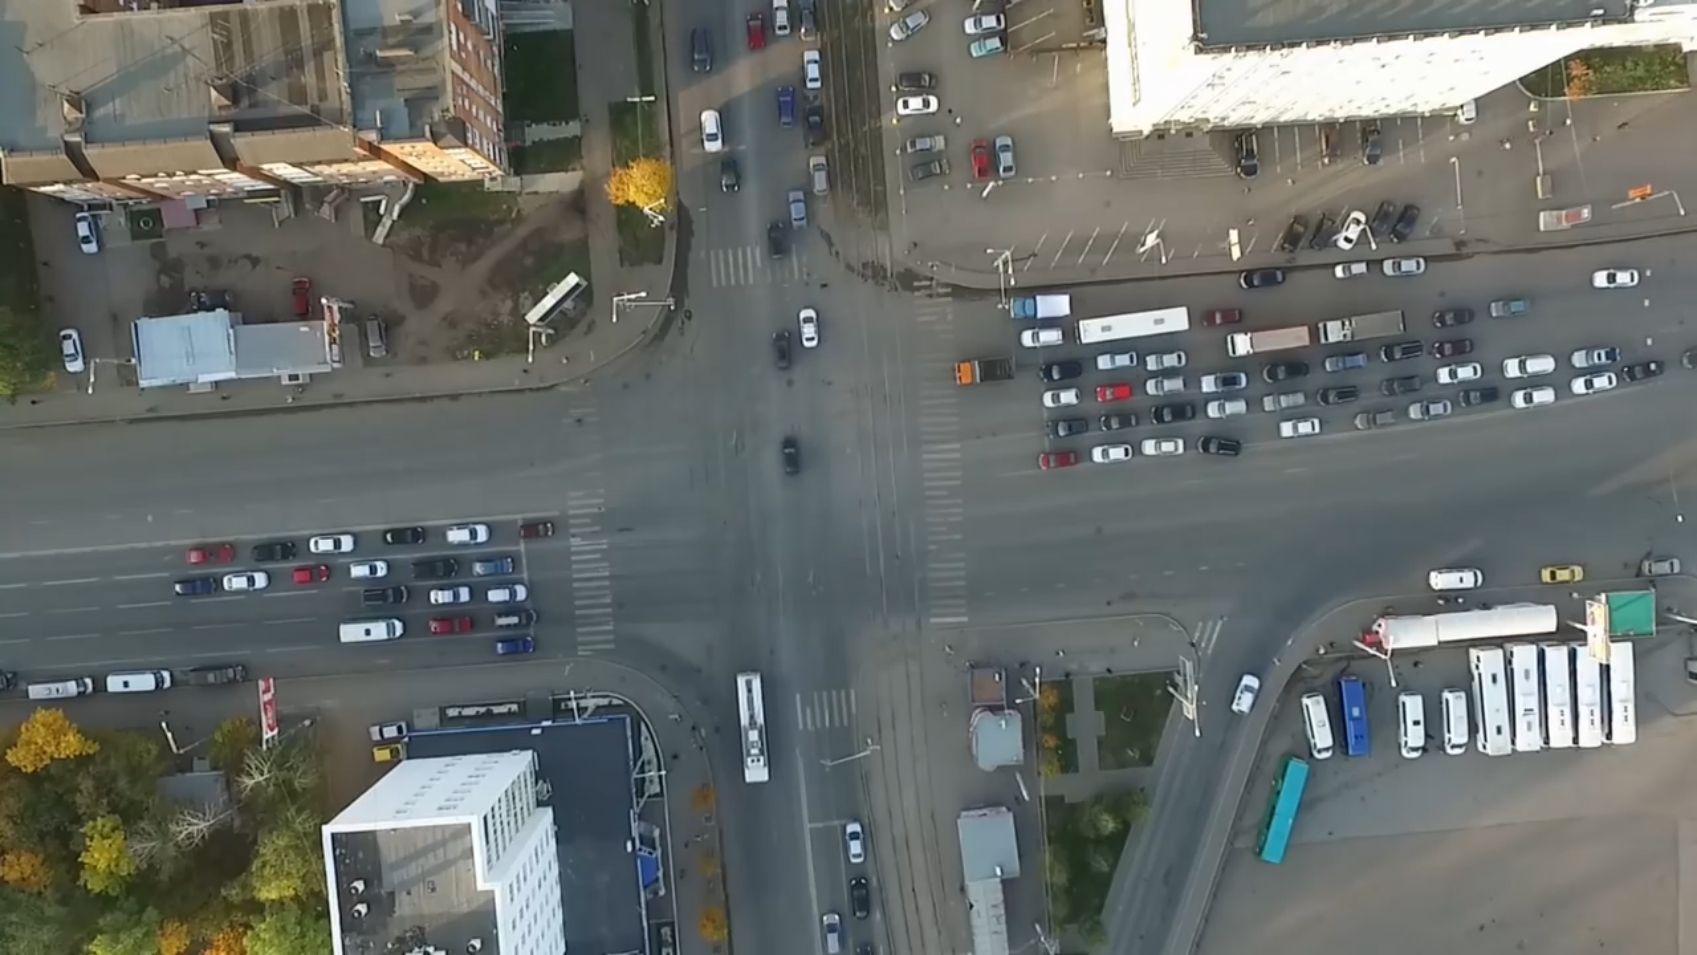car: (1467, 644, 1514, 757), (730, 666, 773, 782), (1068, 306, 1197, 342), (1504, 640, 1544, 752), (1536, 642, 1575, 747), (1599, 645, 1639, 745), (1317, 311, 1411, 345), (1571, 641, 1601, 745), (1339, 674, 1373, 759), (1225, 326, 1311, 357), (1395, 689, 1431, 761), (1296, 694, 1338, 756), (103, 666, 176, 694), (1005, 292, 1075, 319), (1441, 686, 1469, 754), (337, 616, 408, 642), (883, 9, 936, 45), (953, 354, 1018, 384), (304, 527, 365, 556), (183, 535, 239, 567), (1420, 566, 1485, 592), (1235, 266, 1293, 295), (1500, 351, 1558, 379), (184, 662, 245, 689), (1233, 131, 1266, 180), (24, 679, 100, 700), (697, 106, 728, 155), (1227, 674, 1261, 718), (1319, 125, 1349, 174), (246, 539, 298, 566), (1379, 252, 1429, 280), (1013, 325, 1066, 351), (1508, 384, 1559, 410), (1569, 344, 1622, 370), (1570, 370, 1621, 396), (362, 315, 392, 361), (1538, 560, 1590, 585), (355, 583, 404, 610), (56, 330, 86, 373), (1360, 125, 1389, 169), (404, 556, 457, 581), (1335, 208, 1365, 250), (690, 29, 718, 75), (1260, 389, 1311, 414), (800, 103, 828, 147), (773, 82, 800, 127), (73, 212, 101, 255), (1323, 351, 1372, 375), (962, 10, 1011, 35), (1038, 357, 1085, 382), (1274, 415, 1325, 438), (1199, 431, 1244, 458), (765, 220, 791, 265), (1281, 212, 1309, 254), (1090, 442, 1138, 466), (1407, 395, 1455, 420), (1149, 401, 1199, 424), (444, 520, 490, 546), (784, 434, 810, 479), (786, 183, 811, 229), (1393, 201, 1420, 244), (376, 525, 425, 548), (1435, 361, 1485, 384), (364, 719, 414, 742), (1594, 265, 1645, 287), (969, 136, 994, 180), (1093, 349, 1140, 372), (174, 573, 220, 596), (224, 570, 270, 594), (895, 69, 939, 93), (1034, 449, 1085, 470), (800, 308, 826, 347), (1090, 380, 1135, 403), (345, 556, 390, 580), (481, 581, 527, 604), (775, 329, 798, 374), (1200, 304, 1248, 326), (1140, 435, 1188, 457), (966, 35, 1009, 59), (1197, 374, 1256, 392), (1438, 335, 1483, 358), (429, 615, 473, 638), (492, 608, 538, 630), (895, 93, 944, 114), (808, 153, 830, 198), (1368, 197, 1392, 240), (1378, 340, 1425, 361), (1378, 375, 1425, 396), (1490, 296, 1530, 321), (471, 557, 515, 580), (1263, 360, 1310, 381), (1353, 408, 1400, 429), (428, 585, 474, 606), (745, 6, 768, 48), (801, 51, 825, 91), (1043, 385, 1080, 410), (851, 876, 873, 919), (1140, 375, 1188, 395), (291, 562, 330, 587), (772, 1, 796, 40), (293, 275, 314, 319), (1431, 308, 1476, 329), (1097, 412, 1143, 431), (1204, 399, 1251, 419), (1456, 387, 1502, 407), (1619, 360, 1666, 380), (1639, 556, 1682, 577), (1314, 210, 1336, 251), (909, 159, 955, 178), (1044, 417, 1090, 437), (997, 135, 1018, 177), (1318, 384, 1360, 405), (369, 744, 411, 765), (1145, 350, 1189, 370), (902, 134, 948, 153), (497, 637, 537, 656), (824, 910, 842, 955), (721, 155, 741, 195), (1330, 260, 1369, 279), (797, 7, 816, 45), (512, 521, 555, 538), (846, 822, 862, 862), (1458, 99, 1478, 125)
